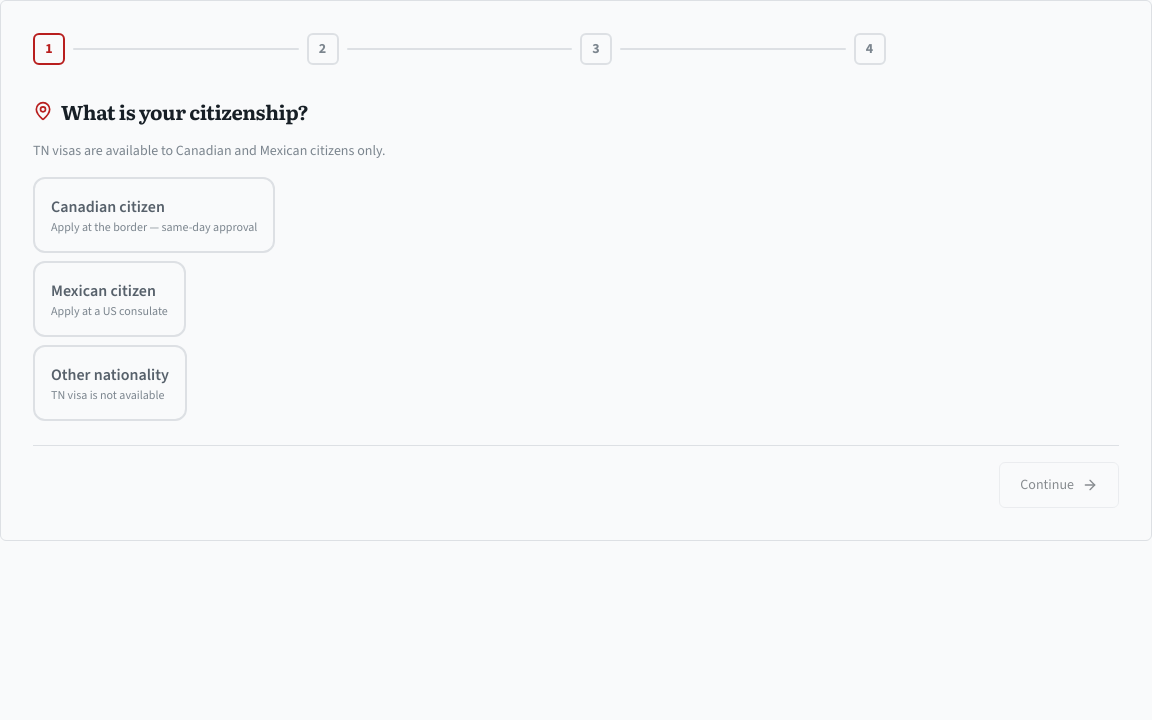
Test: EligibilityChecker › progresses to education step
Click the text "Canadian citizen": {"x": 108, "y": 206} [51,196,165,217]
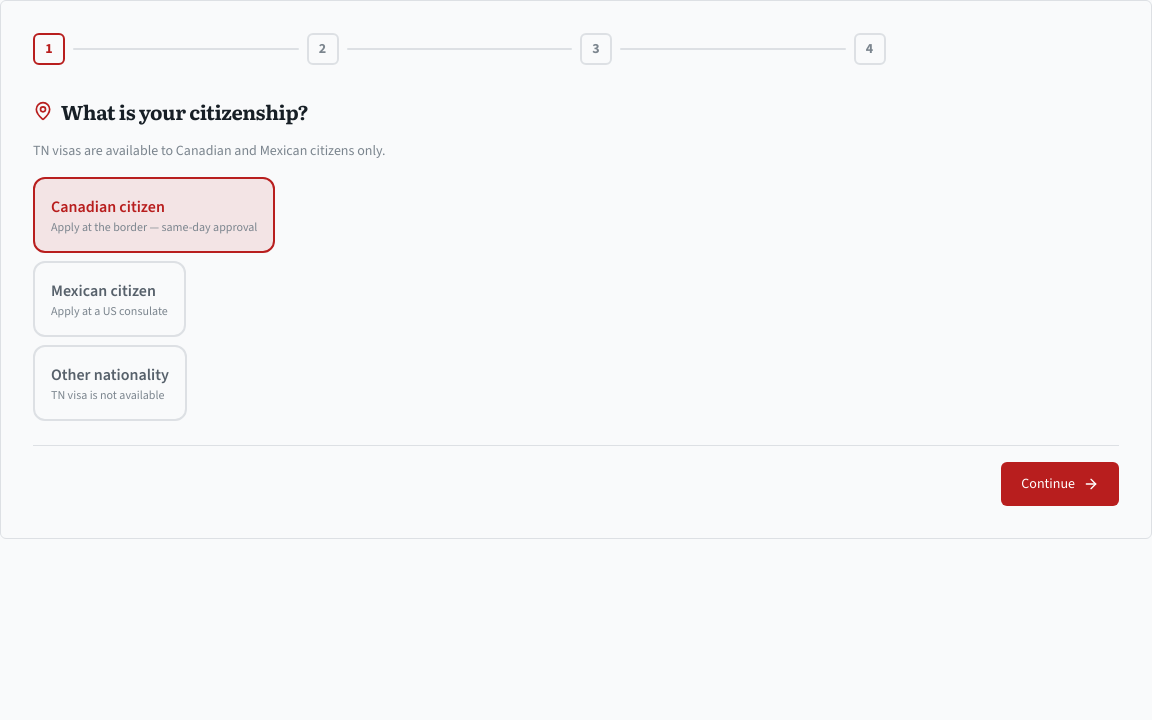
Click the button "Continue": {"x": 1060, "y": 484} [1001,462,1119,506]
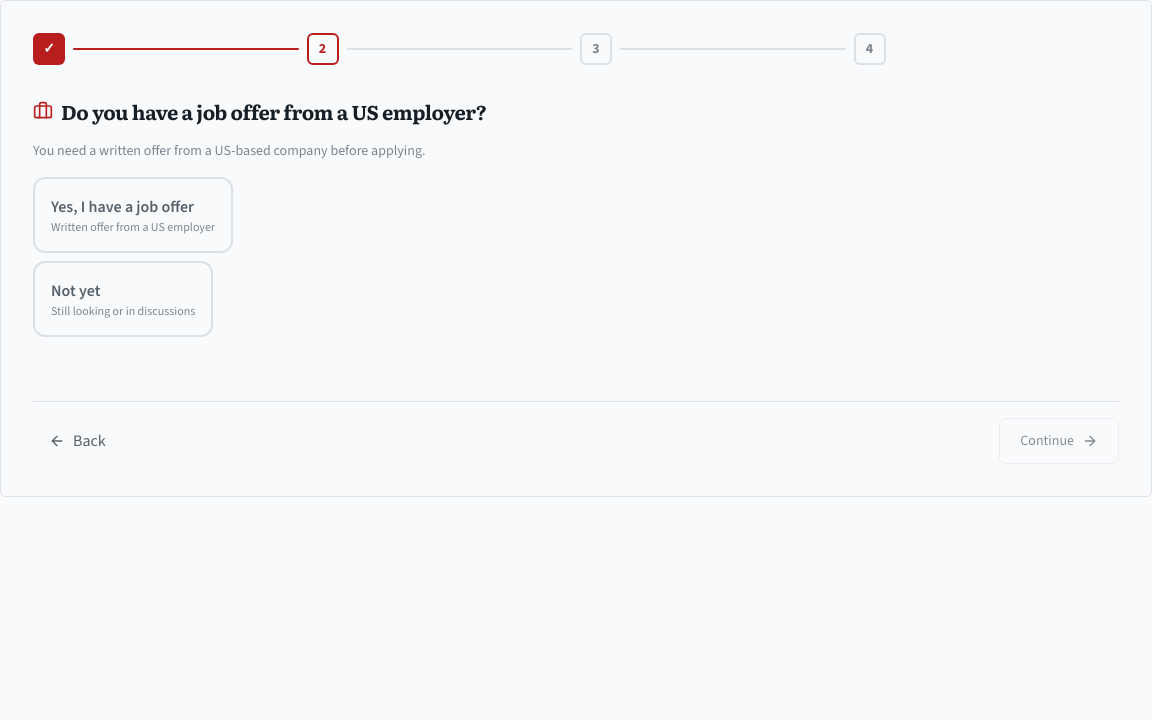
Click the text "Yes, I have a job offer": {"x": 133, "y": 207} [51,195,215,219]
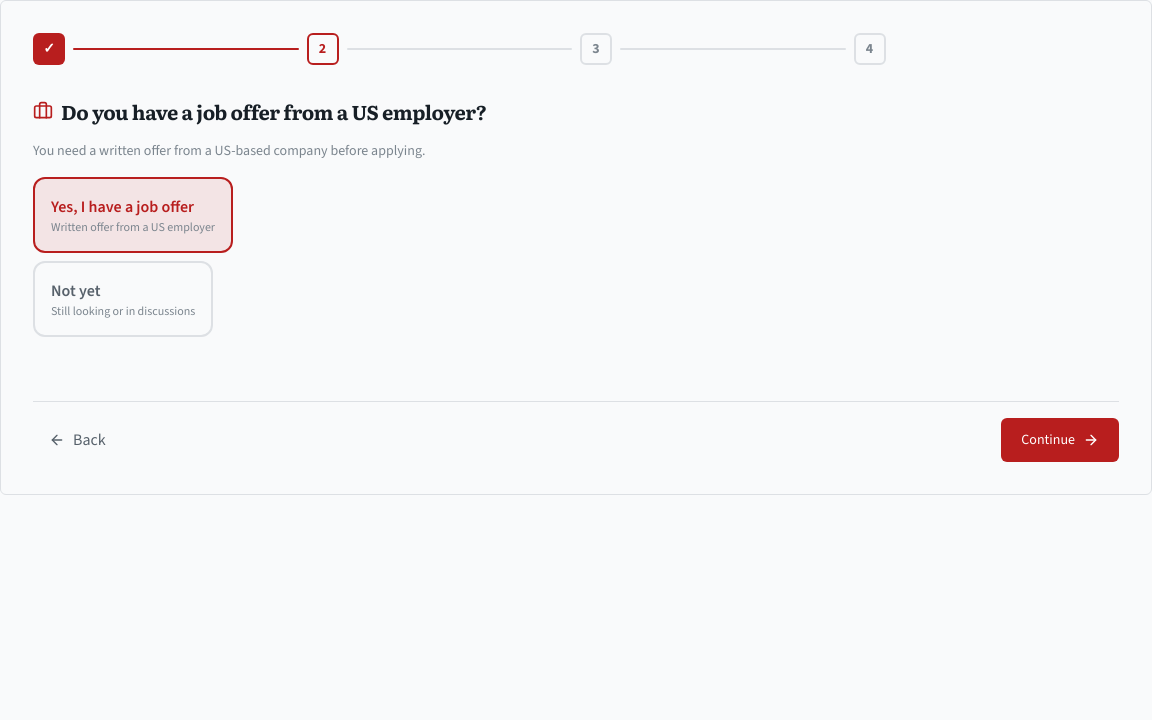
Click the button "Continue": {"x": 1060, "y": 440} [1001,418,1119,462]
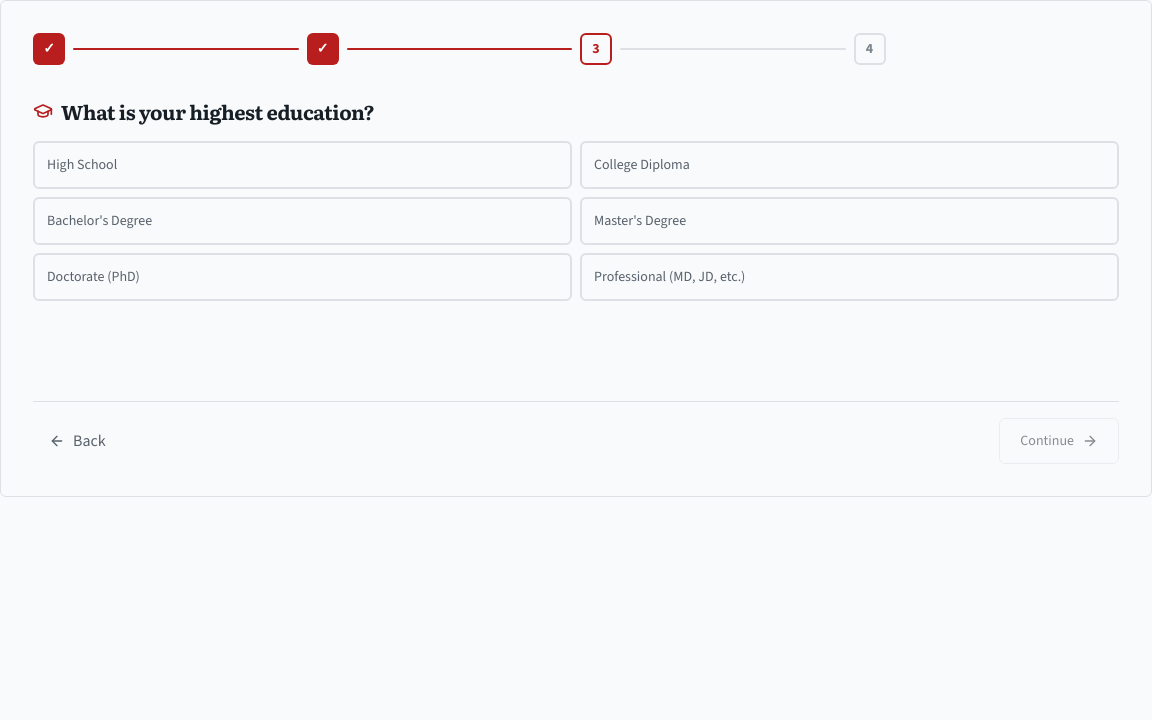
Expected: the heading "What is your highest education?" is shown, [61,97,374,125]
